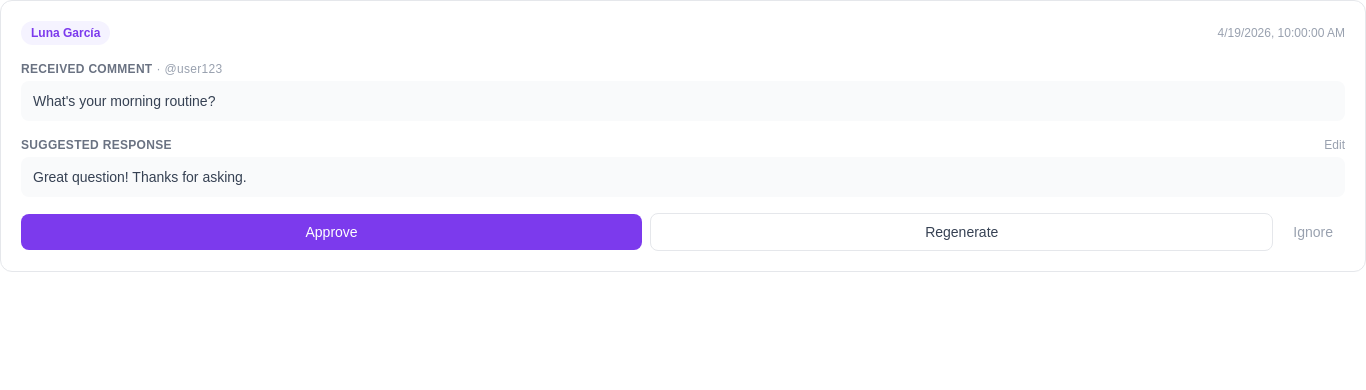
Scenario: ApprovalCard › inline edit › cancels edit and restores original text
Click the button "Edit": (1335,145) [1324,137,1345,153]
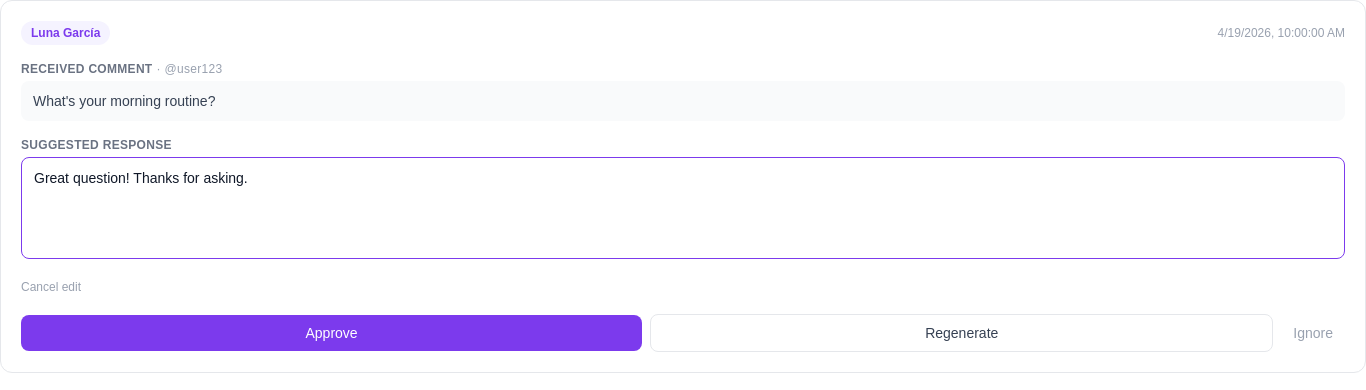
Click the button "Cancel edit": (51,287) [21,279,81,295]
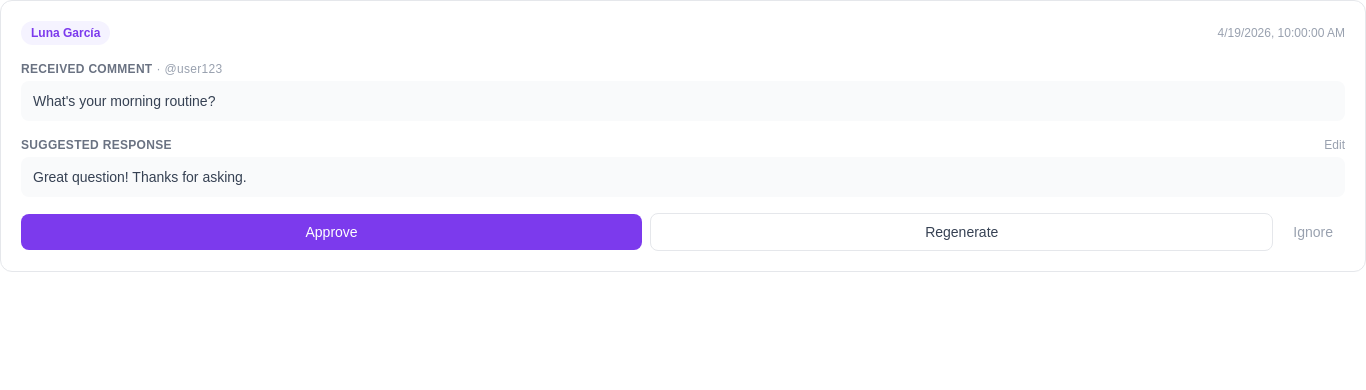
Expected: the text "Great question! Thanks for asking." is shown, [21,157,1345,197]
